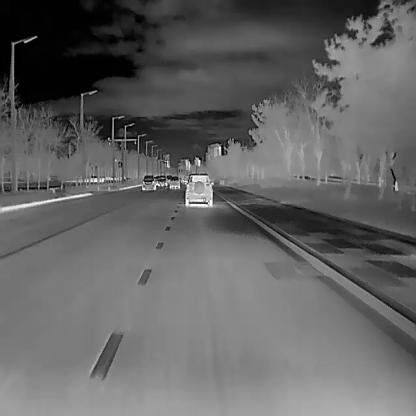car: (184, 173, 214, 206), (141, 174, 155, 190), (168, 174, 180, 188), (154, 175, 166, 186), (181, 174, 189, 184), (166, 174, 172, 184)
